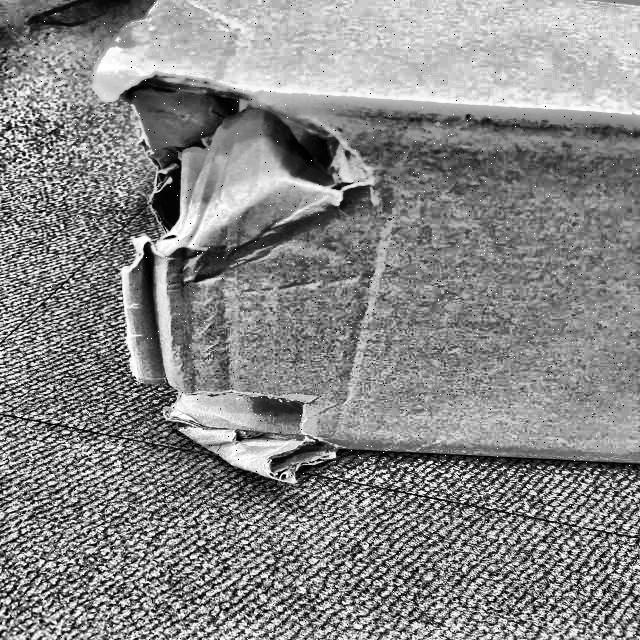box: (83, 0, 639, 492)
hole: (120, 67, 370, 251), (135, 377, 327, 463)
